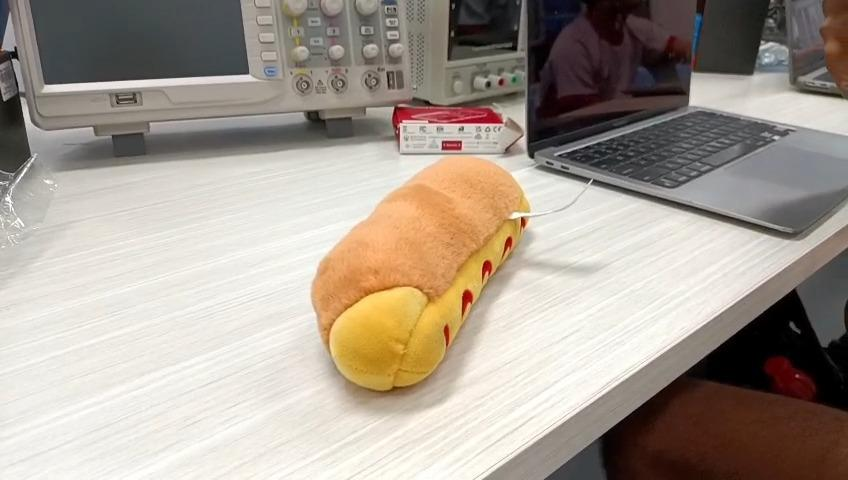hotdog: (311, 155, 531, 390)
